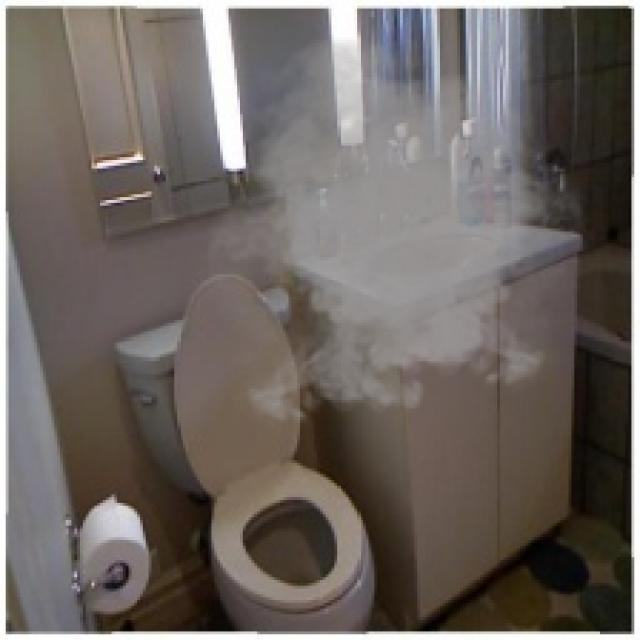smoke: (185, 32, 606, 434)
